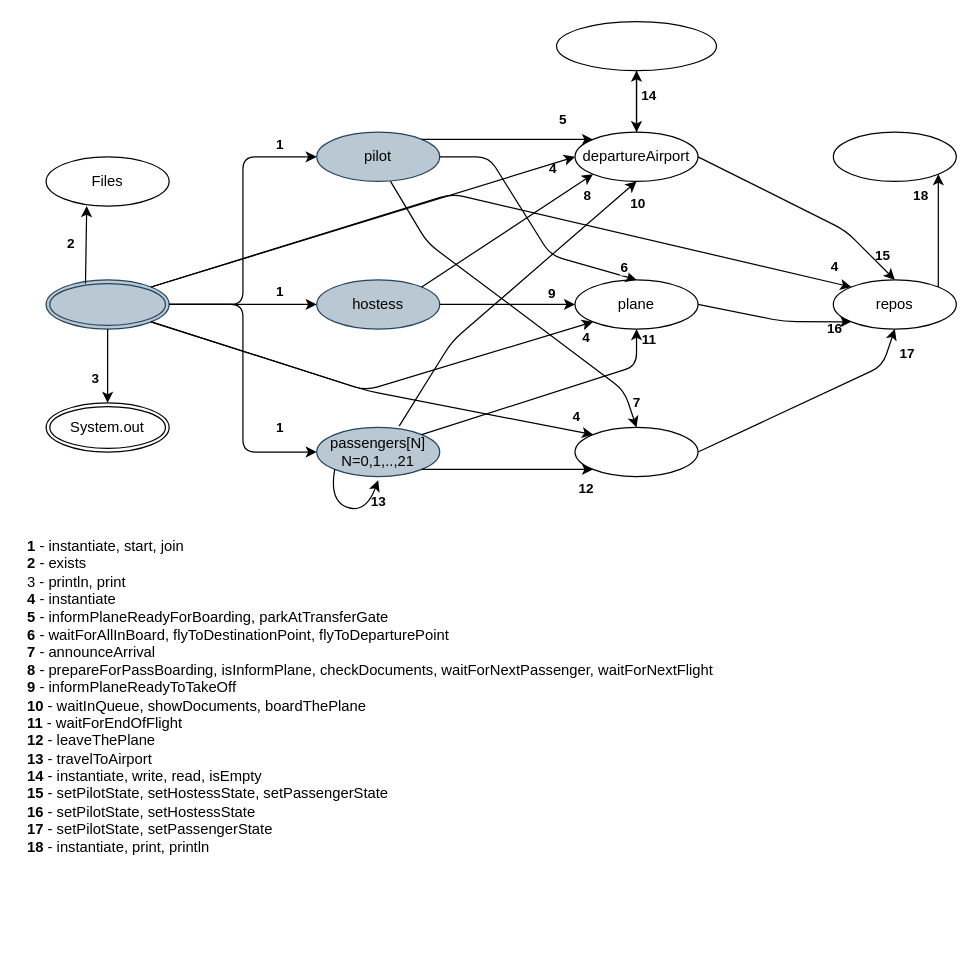
Image size: 978x953. Some labels were removed from this diagram. Here are the shapes that lost their labels. From the top down, the centre of each, then its label:
At pixel 635 45: "passengersAtQueue".
At pixel 894 156: "fw".
At pixel 107 304: "AirLift".
At pixel 636 451: "destinationAirport".
